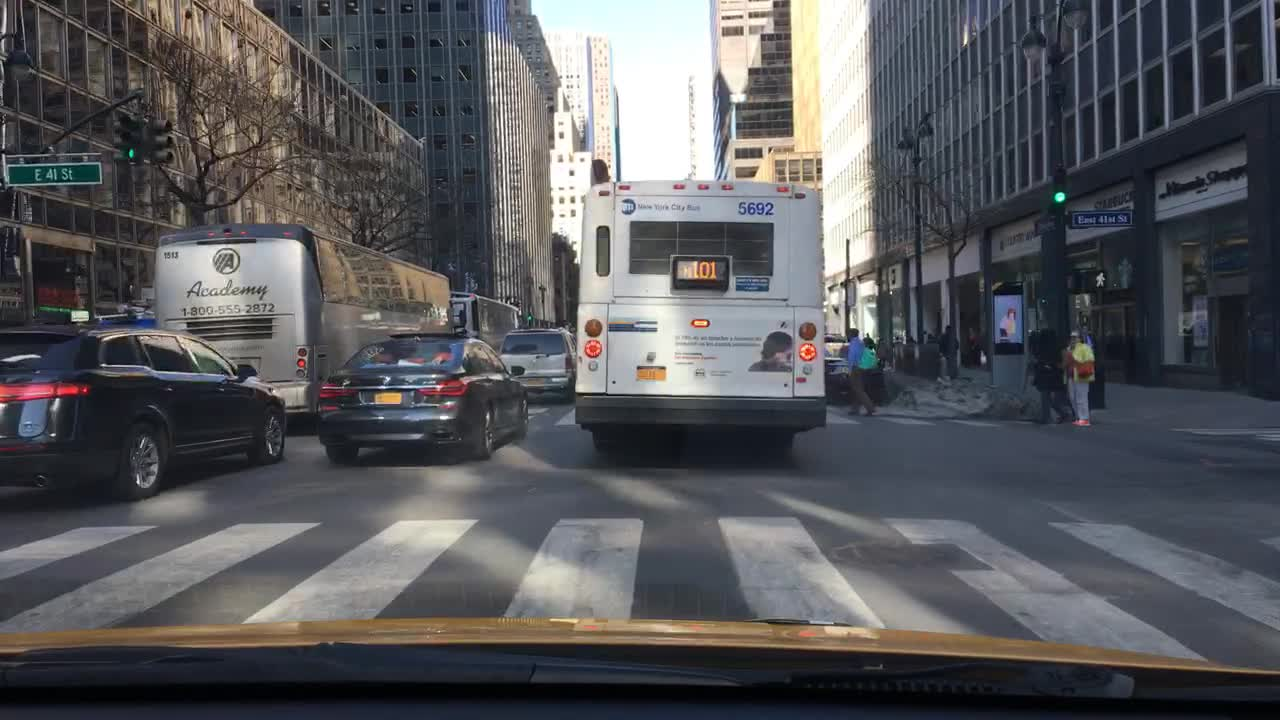bus: (573, 179, 828, 464), (152, 221, 450, 430), (453, 290, 527, 346)
car: (0, 321, 286, 499), (317, 332, 530, 464), (495, 326, 577, 398), (821, 342, 887, 403), (810, 334, 842, 353)
person: (842, 325, 878, 418), (1033, 326, 1067, 423), (1063, 332, 1097, 427), (943, 319, 959, 378), (965, 325, 979, 366), (1078, 321, 1094, 346), (861, 326, 875, 350)
traffic light: (147, 111, 173, 163), (121, 115, 145, 163), (111, 111, 127, 169), (1053, 163, 1067, 206), (1083, 271, 1110, 289)
traffic sign: (7, 160, 102, 185), (1071, 208, 1130, 228), (1035, 217, 1056, 237)
